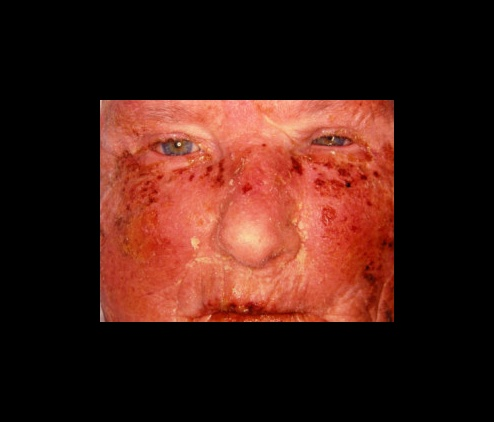SJS-TEN: (97, 99, 395, 327)
